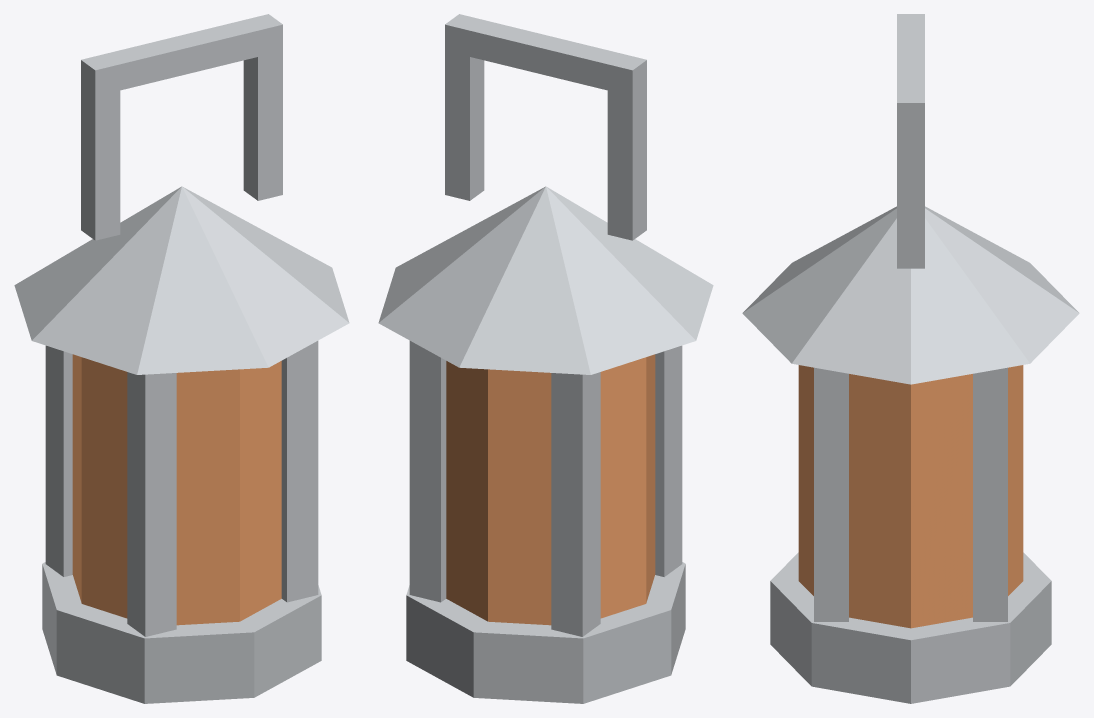
File: animprop_lantern_00.glb
The picture shows the model from 3 angles, left to right: view 1: azimuth 30°, elevation 25°; view 2: azimuth 150°, elevation 25°; view 3: azimuth 270°, elevation 25°; orthographic projection. The views are drawn at different scales.
Visible parts, largest first — view 1: animprop; view 2: animprop; view 3: animprop.
Part boxes in pixels (x1,y1,x2,y2): animprop: (14,14,349,703); animprop: (378,14,713,703); animprop: (742,14,1079,703).
Bounding box in the file's own units: 0.48 × 0.92 × 0.48.
